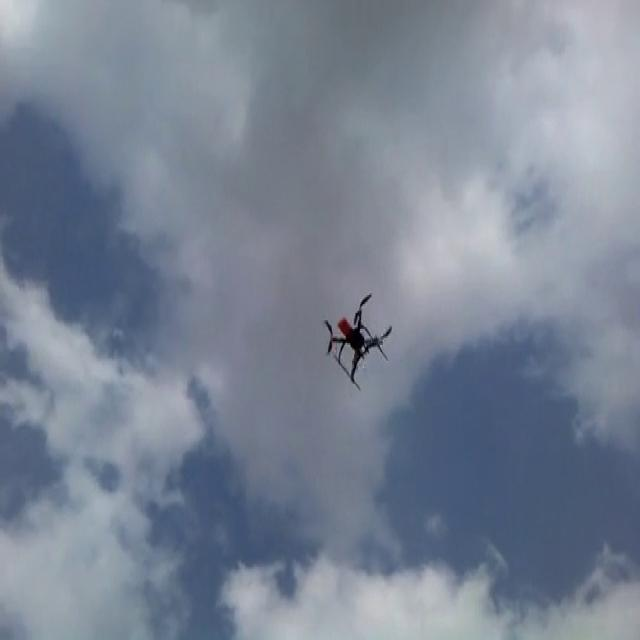drone: (321, 286, 392, 389)
